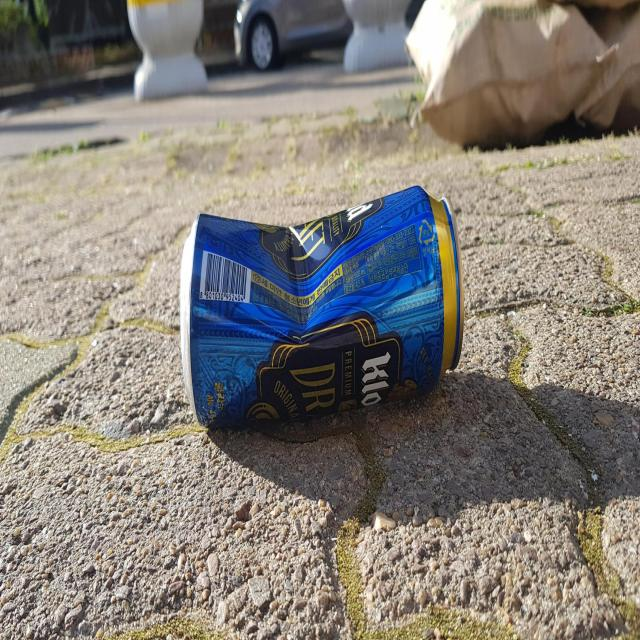can: (180, 185, 465, 427)
